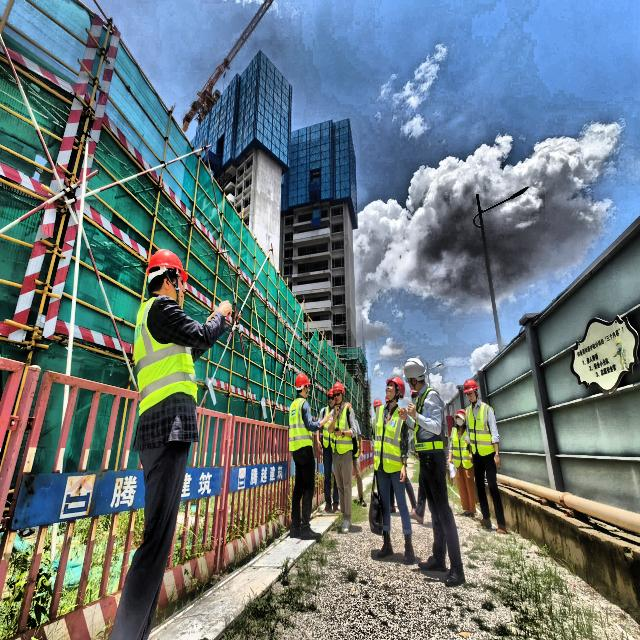safety_helmet: (149, 248, 189, 283), (401, 355, 429, 379), (294, 369, 317, 394), (378, 373, 404, 395), (456, 376, 482, 394), (330, 383, 352, 397), (323, 386, 338, 402)
safety_jacket: (129, 301, 206, 413), (373, 406, 406, 481), (411, 384, 447, 449), (328, 408, 364, 448), (468, 404, 494, 458), (287, 401, 312, 456), (448, 428, 469, 474), (318, 406, 336, 448)
